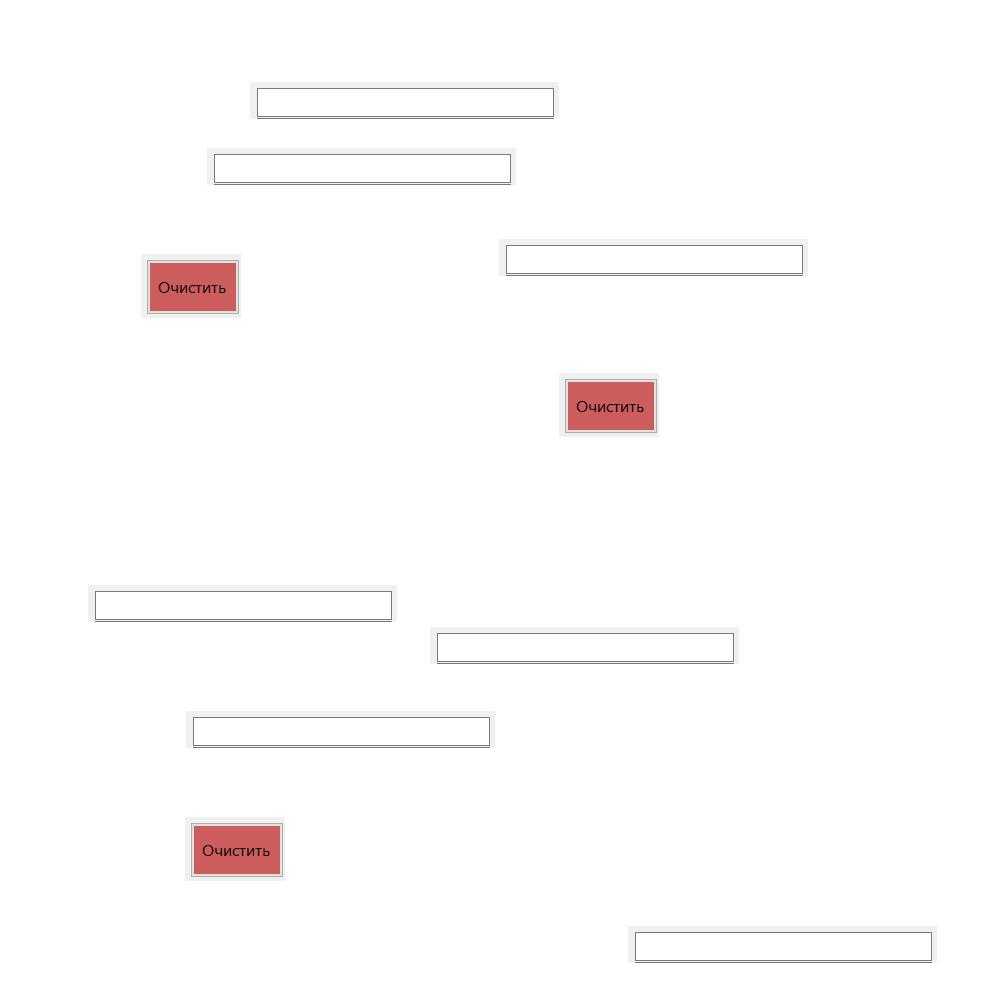Button: (185, 817, 285, 881), (141, 254, 241, 318), (559, 373, 659, 437)
EditText-: (430, 627, 739, 664), (628, 926, 937, 963), (186, 711, 495, 748), (499, 239, 808, 276), (207, 148, 516, 185), (250, 82, 559, 119), (88, 585, 397, 622)
